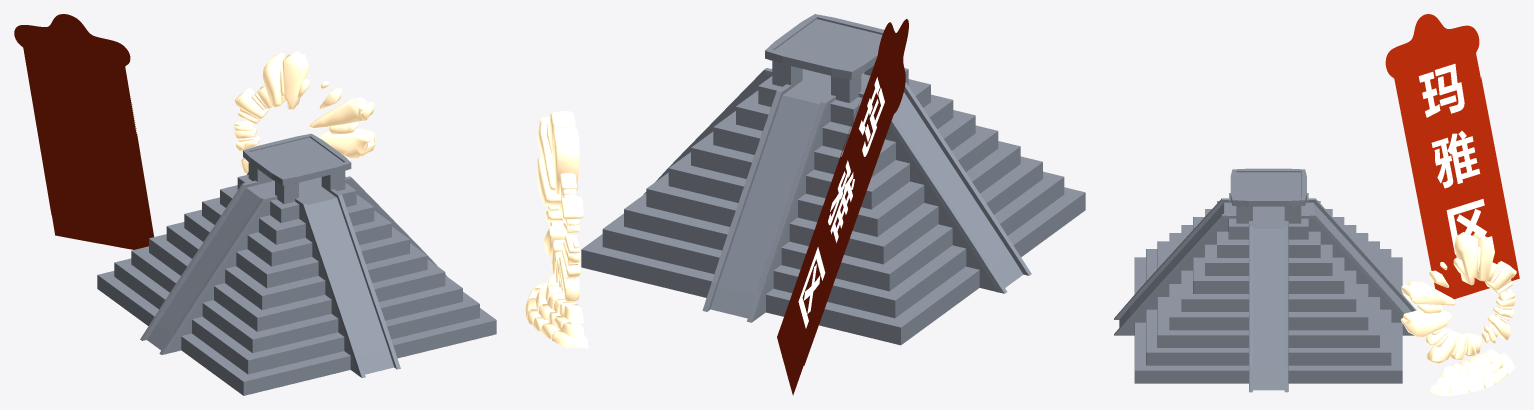
3 views of the same model, side by side, from view 1: azimuth 30°, elevation 25°; view 2: azimuth 150°, elevation 25°; view 3: azimuth 270°, elevation 25° (orthographic). The views are drawn at different scales.
Visible parts, largest first — view 1: object 1, 贝塞尔曲线.017; view 2: object 1, 贝塞尔曲线.017, object 4; view 3: object 1, 贝塞尔曲线.017, object 4.
Part boxes in pixels (<box>): object 1: <box>97,51,496,395</box>; 贝塞尔曲线.017: <box>14,14,153,249</box>; object 1: <box>525,14,1085,348</box>; 贝塞尔曲线.017: <box>777,19,908,395</box>; object 4: <box>798,77,884,328</box>; object 1: <box>1114,168,1516,395</box>; 贝塞尔曲线.017: <box>1385,14,1519,299</box>; object 4: <box>1418,64,1493,254</box>.
Size of the model in its own units: 5.12 by 4.17 by 6.04.
